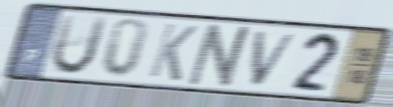0: (99, 17, 151, 81)
2: (288, 30, 344, 96)
K: (146, 21, 201, 84)
N: (183, 22, 257, 91)
U: (49, 12, 111, 78)
V: (249, 30, 302, 89)
